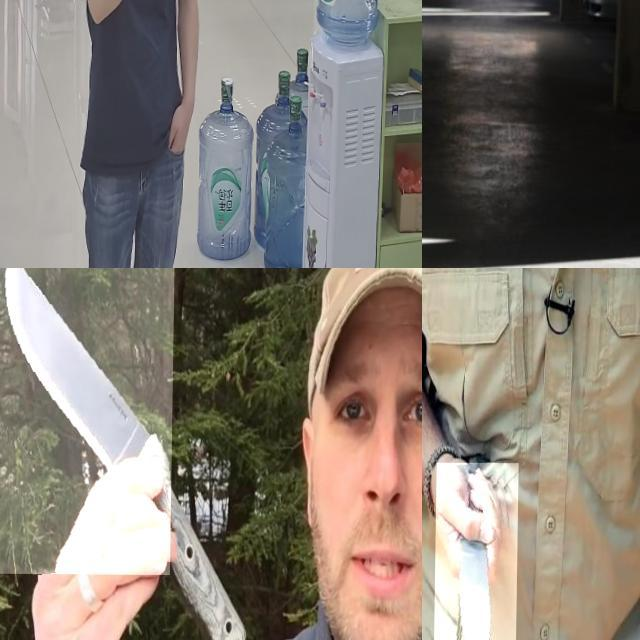-: (0, 268, 174, 574), (434, 462, 519, 640), (422, 192, 449, 268)
gun-knife-thesis - v11 Yolov5 augmented: (140, 0, 182, 46)
